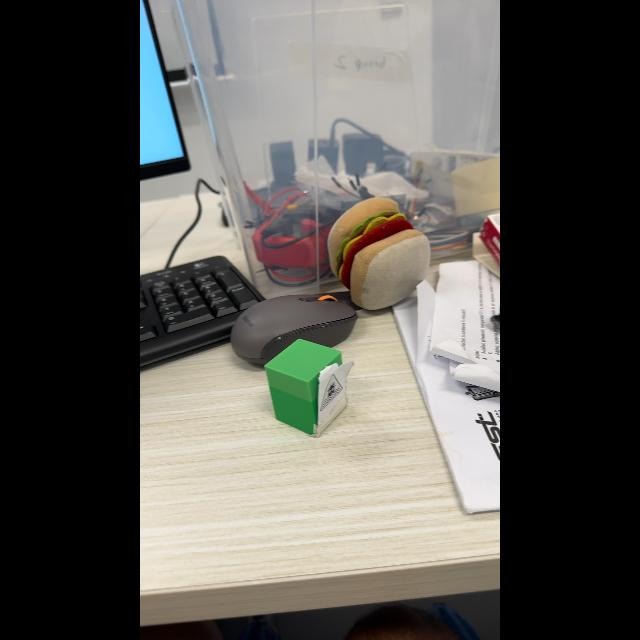Tsunami: (319, 374, 342, 411)
